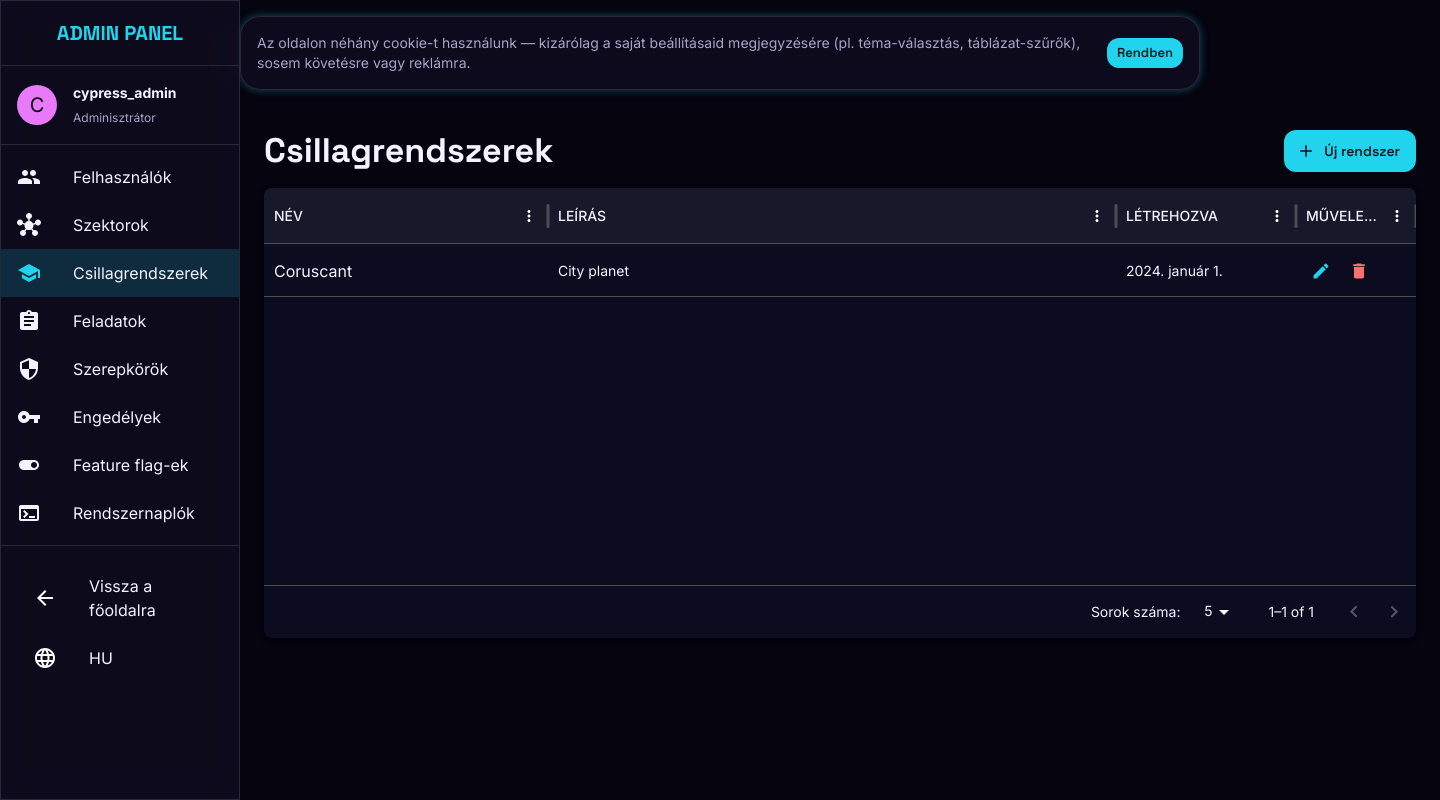
Admin Star System Management (Mocked Backend) › should delete a star system
Expected: the text "Coruscant" is shown, [274,258,352,282]
Click the button named "delete".
click(1359, 271)  # box [1344,257,1374,285]
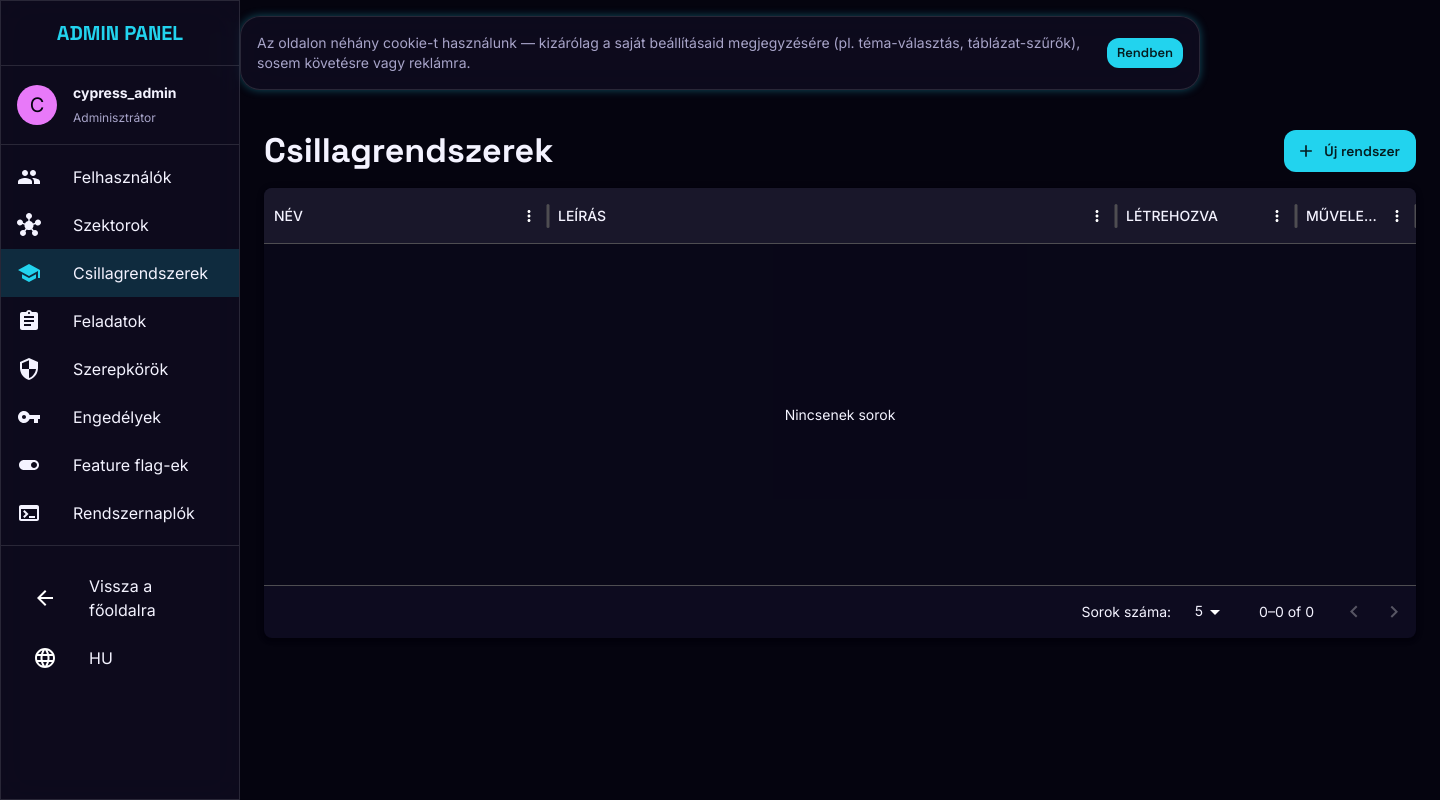
Now the text "Coruscant" is gone
